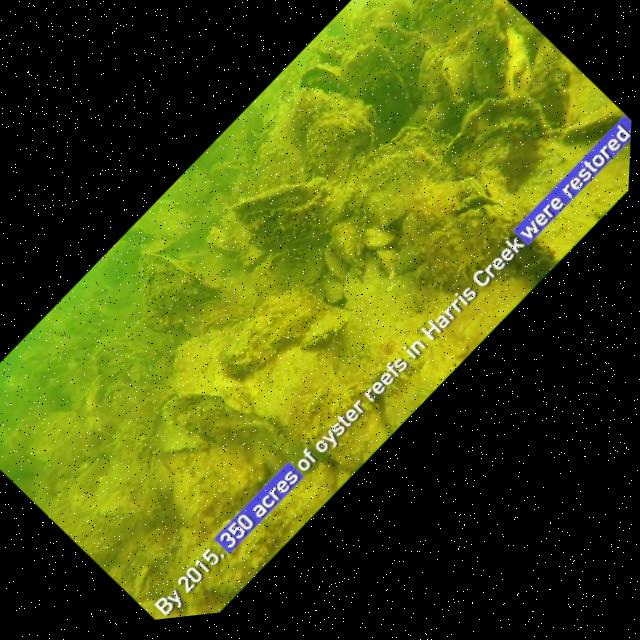Oyster-Closed: (108, 226, 229, 356), (423, 42, 494, 118)
Oyster-Indeterminate: (317, 78, 500, 272), (166, 429, 350, 618), (398, 171, 558, 341), (425, 66, 560, 210), (153, 356, 274, 485), (275, 81, 388, 202), (242, 326, 352, 442), (139, 305, 240, 411), (541, 76, 633, 182), (472, 10, 564, 108), (206, 298, 296, 393), (261, 75, 348, 165), (335, 14, 418, 103), (18, 396, 98, 480), (150, 455, 229, 540), (92, 356, 170, 438), (392, 29, 469, 111), (312, 203, 386, 282), (354, 58, 423, 133), (81, 317, 148, 388), (60, 358, 124, 426), (448, 0, 524, 51), (410, 84, 469, 147), (291, 46, 349, 109), (121, 328, 176, 387), (138, 450, 186, 502), (313, 234, 359, 283), (311, 265, 355, 312), (131, 482, 172, 526), (357, 215, 394, 254)
Oyster-Open: (220, 138, 358, 284), (295, 291, 363, 363), (334, 365, 392, 426), (197, 292, 253, 351), (370, 0, 470, 24), (122, 556, 167, 604)
